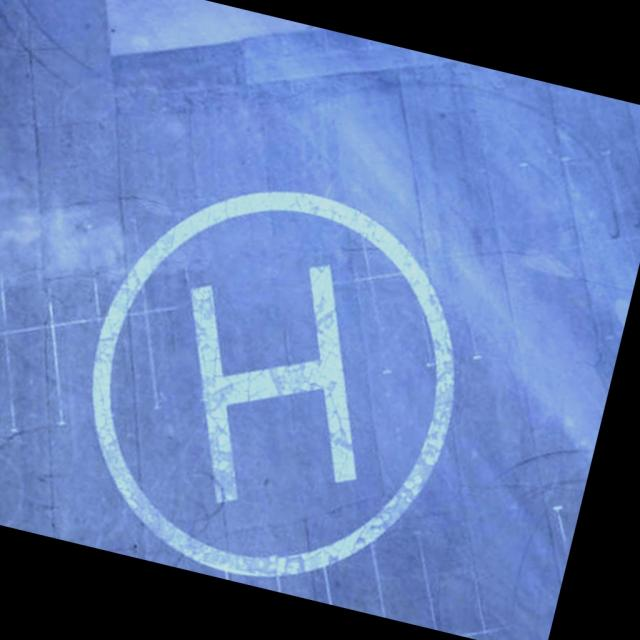helipad: (82, 185, 462, 582)
